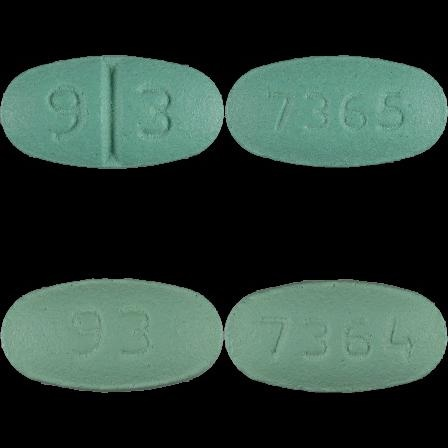0615-7605: (0, 0, 224, 224)
